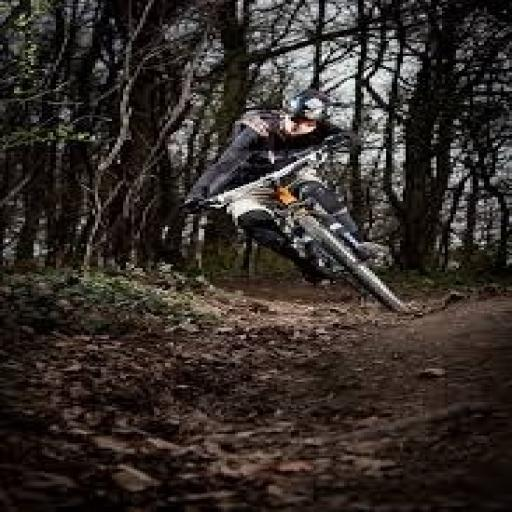cycling: (179, 88, 397, 288)
